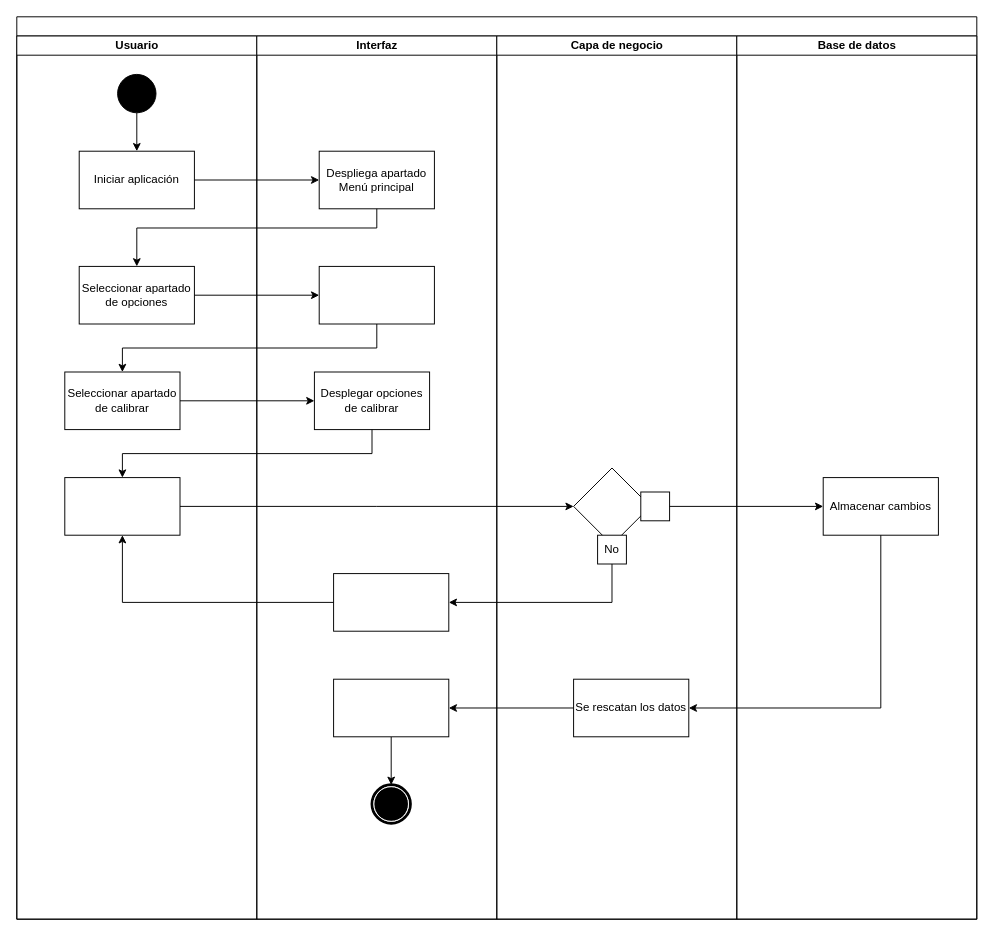
The diagram is 994 pixels wide and 936 high, and some of its shapes have lost their labels. The centre of each missing label's shape, as x and y in pixels:
"Cambiar valores que se desee del dispositivo" goes at [122,506].
"Desplegar cambios efectuados" goes at [391,707].
"Despliega diferentes apartados" goes at [376,294].
"No hay cambios" goes at [391,602].
"Si" goes at [655,506].
"¿Cambios?" goes at [611,506].
